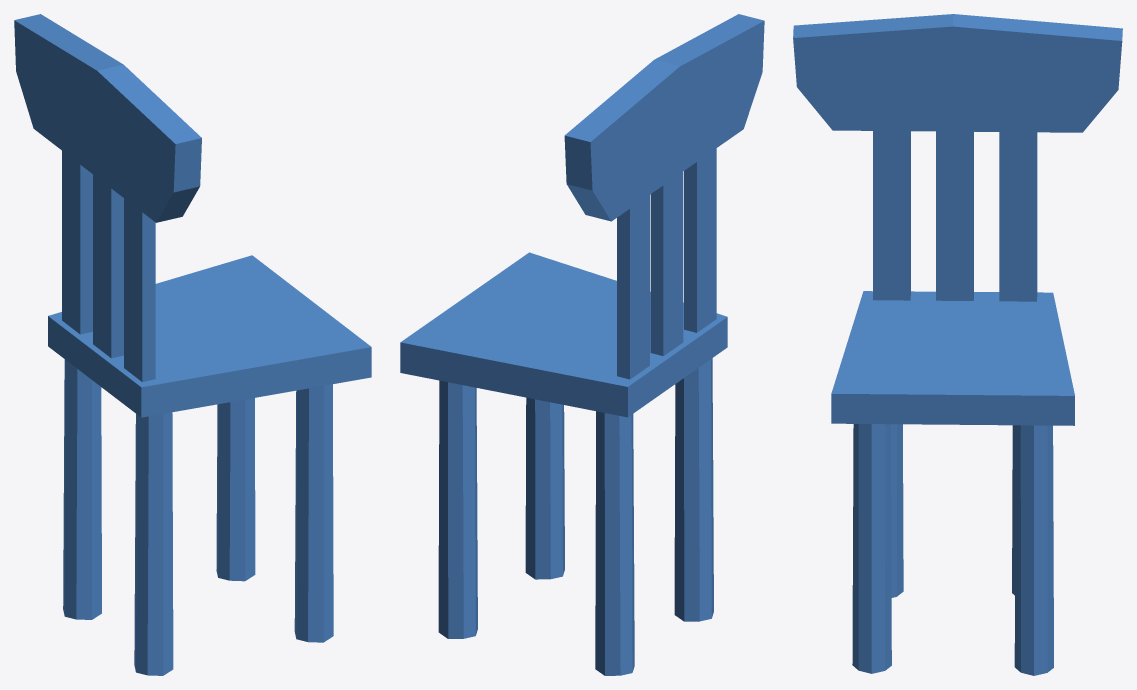
File: Kitchen_2_Chair_2.fbx
3 renders of one model, left to right at view 1: azimuth 30°, elevation 25°; view 2: azimuth 150°, elevation 25°; view 3: azimuth 270°, elevation 25°, orthographic. The views are drawn at different scales.
Visible parts, largest first — view 1: Kitchen_2_Chair_2; view 2: Kitchen_2_Chair_2; view 3: Kitchen_2_Chair_2.
Boxes of the visible parts, bbox=[...] form: Kitchen_2_Chair_2: bbox=[14, 14, 371, 675]; Kitchen_2_Chair_2: bbox=[400, 14, 764, 675]; Kitchen_2_Chair_2: bbox=[793, 14, 1122, 675].
Bounding box in the file's own units: 59.91 × 150 × 79.18.
